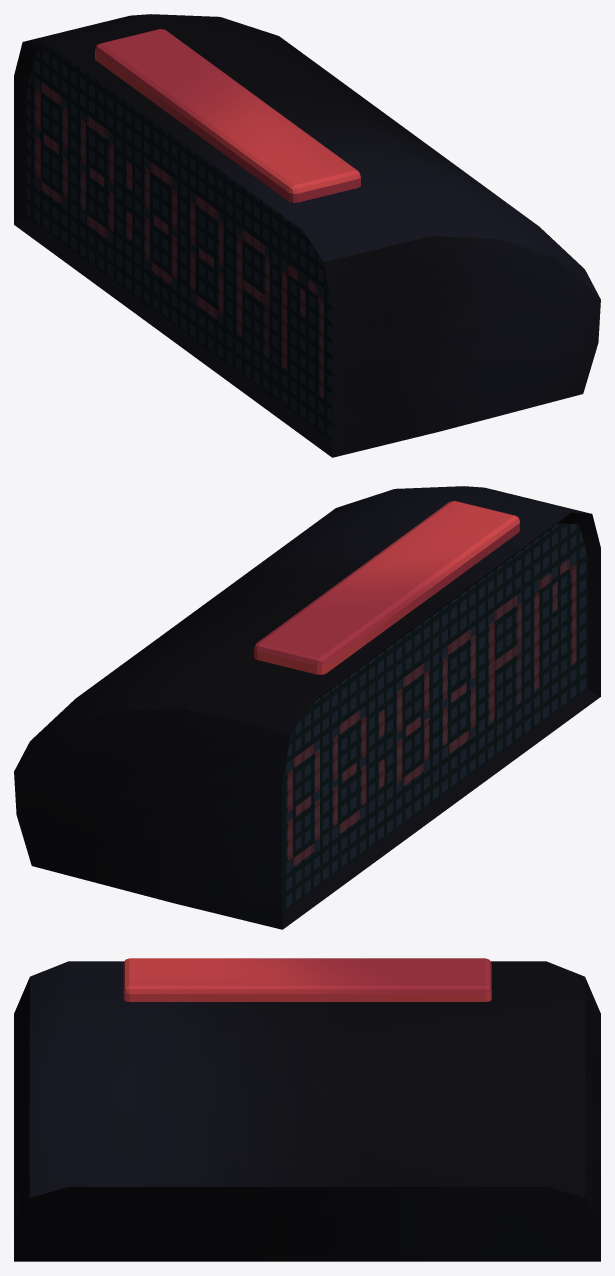
File: Alarm Clock.fbx
3 views of the same model, one above another, from view 1: azimuth 30°, elevation 25°; view 2: azimuth 150°, elevation 25°; view 3: azimuth 270°, elevation 25° (orthographic). The views are drawn at different scales.
Parts seen in each view (by area): view 1: Clock, Button; view 2: Clock, Button; view 3: Clock, Button.
Part boxes in pixels (x1=…): Clock: x1=14, y1=14, x2=600, y2=457; Button: x1=95, y1=29, x2=360, y2=202; Clock: x1=14, y1=486, x2=600, y2=929; Button: x1=254, y1=501, x2=519, y2=674; Clock: x1=14, y1=961, x2=600, y2=1261; Button: x1=123, y1=958, x2=491, y2=1001.
Size of the model in its own units: 51.13 by 38.3 by 100.
1 material, 1 textured.
